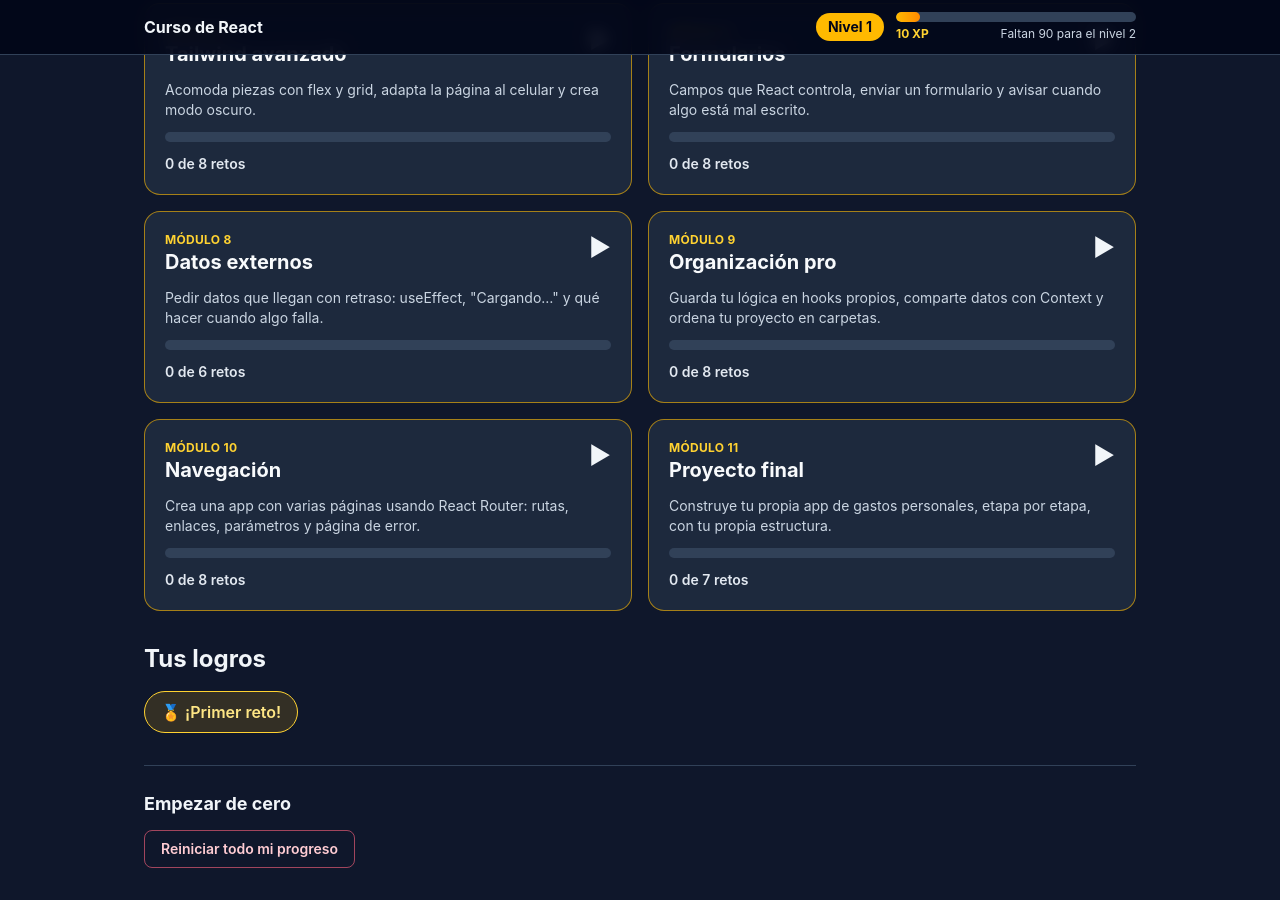
Test case: reiniciar pide confirmación en pantalla y borra progreso y código guardado
(page scrolled)
Click the button "Reiniciar todo mi progreso": (250, 849) [144,830,355,868]
(page scrolled)
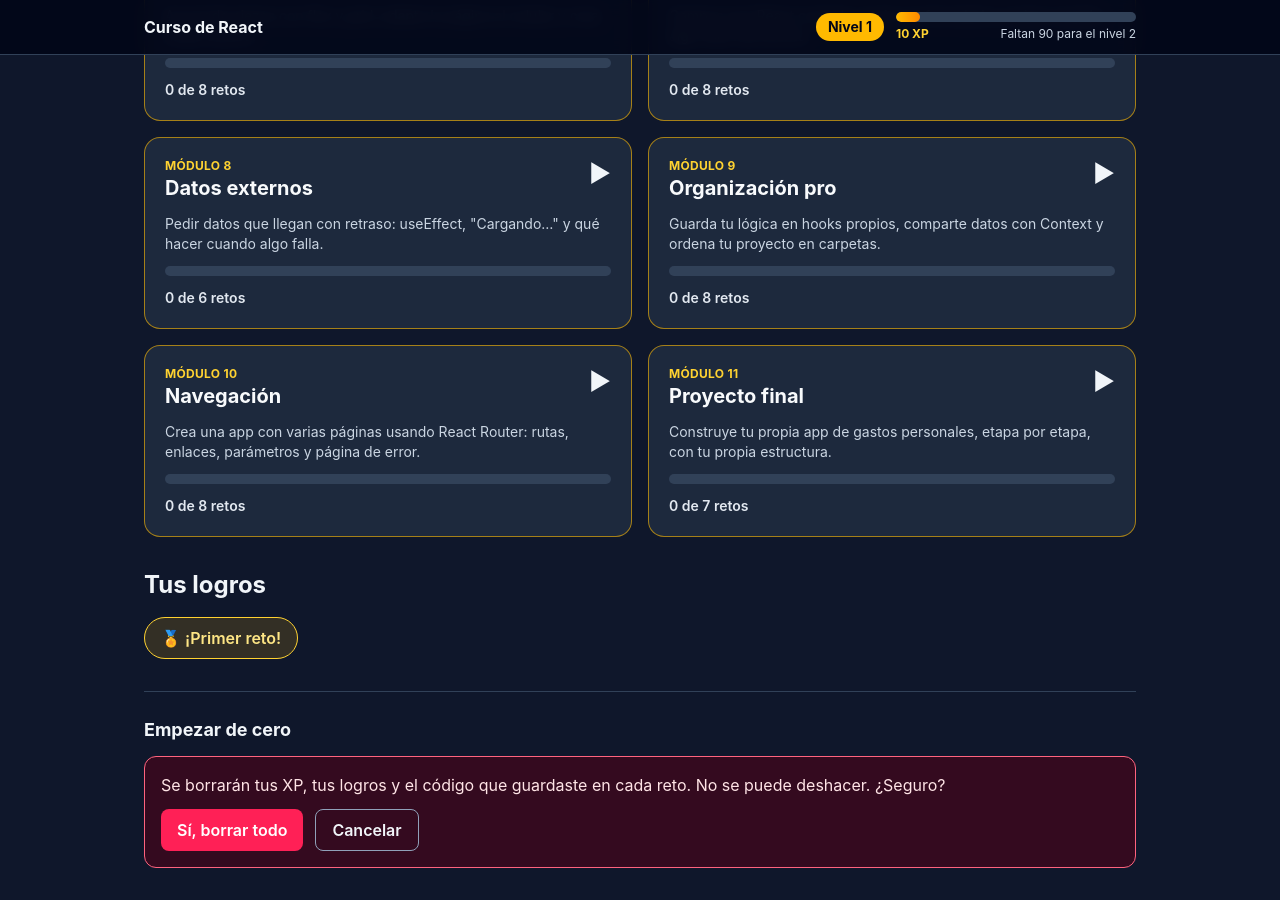
Expected: the text "10 XP" is shown, [896,26,929,42]
Click the button "Cancelar": (367, 830) [315,809,419,851]
(page scrolled)
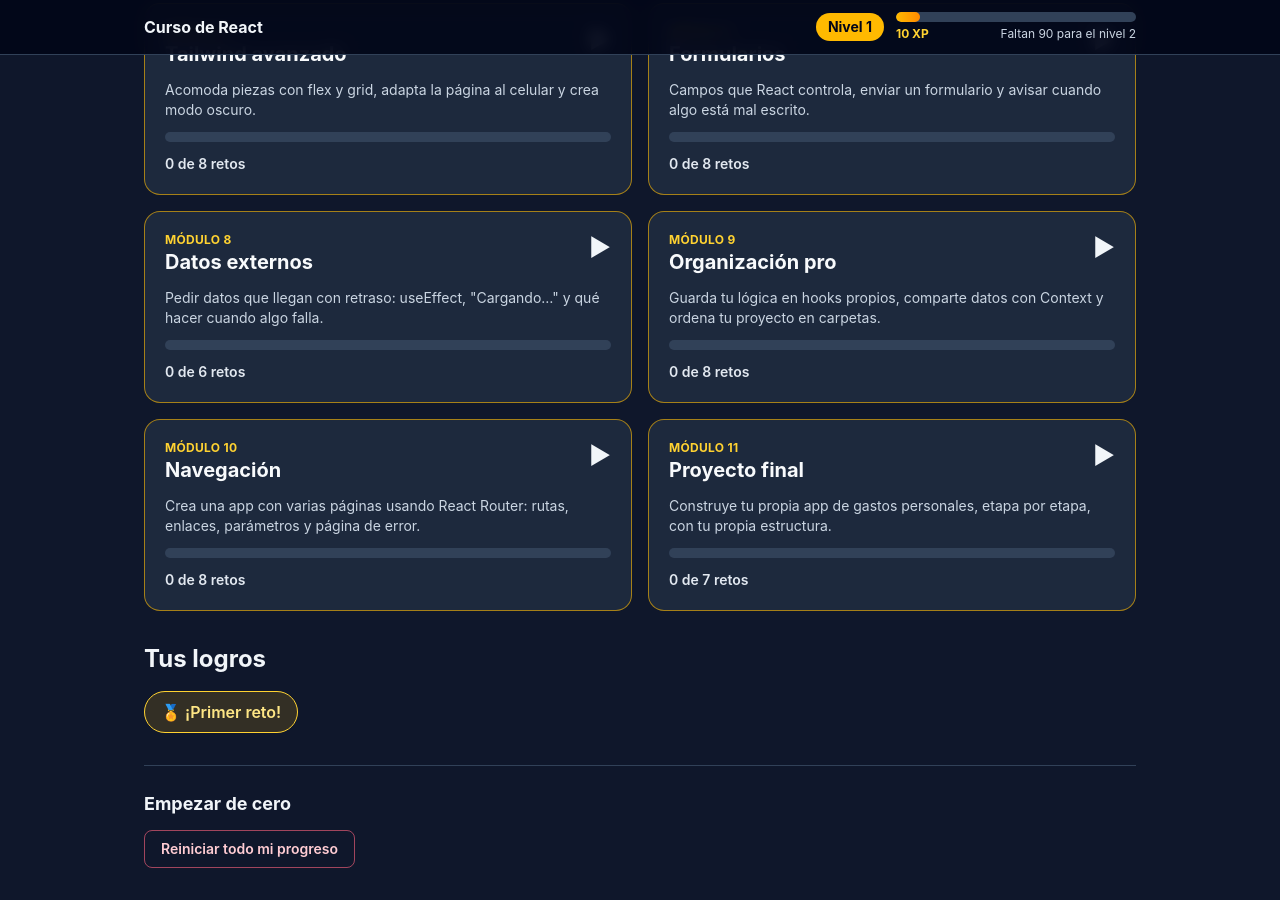
Expected: the text "10 XP" is shown, [896,26,929,42]
Click the button "Reiniciar todo mi progreso": (250, 849) [144,830,355,868]
(page scrolled)
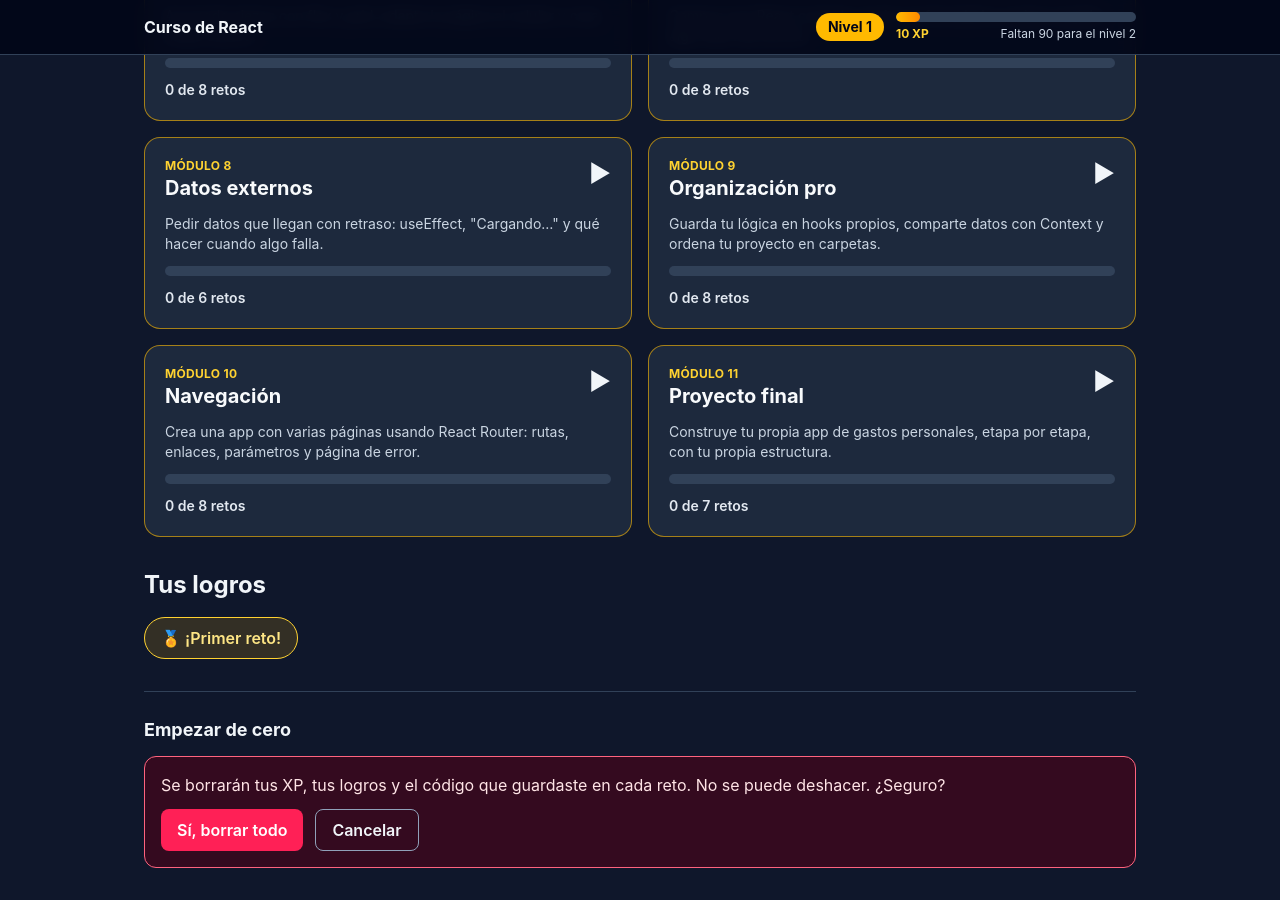
Click the button "Sí, borrar todo": (232, 830) [161,809,303,851]
(page scrolled)
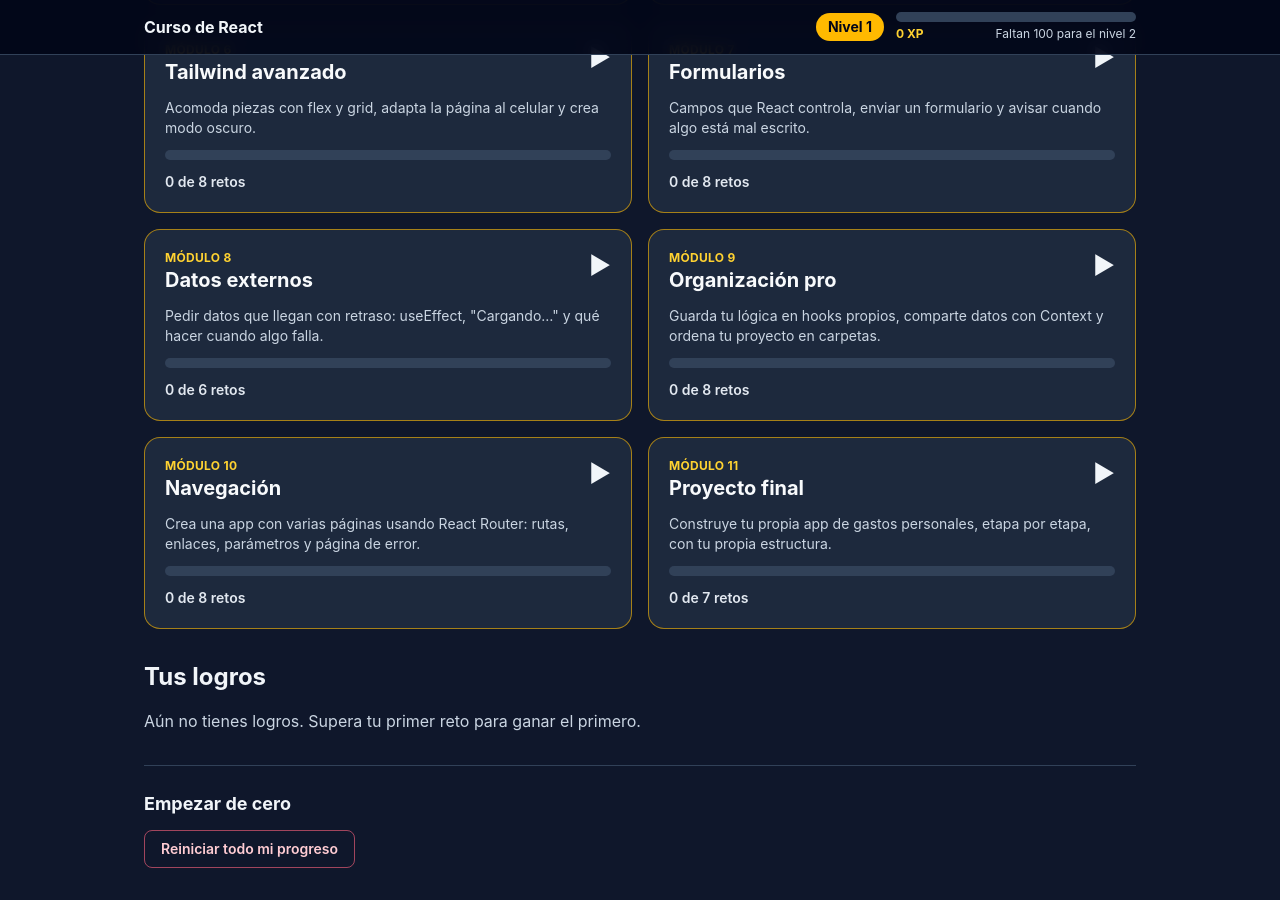
Expected: the text "0 XP" is shown, [896,26,924,42]
Now the list item "¡Primer reto!" is gone
